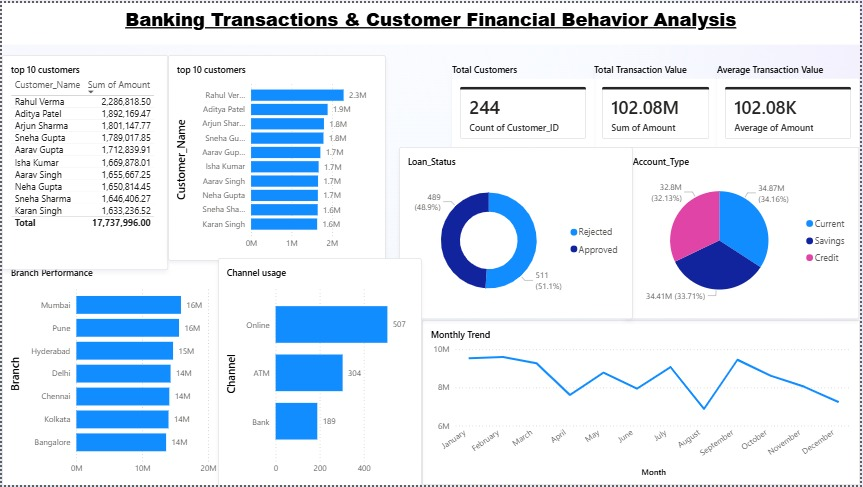

This screenshot's page, from the dashboard's own definition file:
{"tool":"powerbi","page":{"name":"Page 1","canvas":[1280,720],"ordinal":0},"visuals":[{"type":"cardVisual","title":"Total Transaction Value","fields":{"Data":["Sum(finance_project_dataset_1000_records.Amount)"]},"box":[883.2,91.4,184.6,124.2],"z":0},{"type":"cardVisual","title":"Total Customers","fields":{"Data":["Count(finance_project_dataset_1000_records.Customer_ID)"]},"box":[671.1,91.4,212.2,124.2],"z":1000},{"type":"cardVisual","title":"Average Transaction Value","fields":{"Data":["Avg(finance_project_dataset_1000_records.Amount)"]},"box":[1067.8,91.4,212.2,124.2],"z":2000},{"type":"clusteredBarChart","title":"Branch Performance","fields":{"Category":["finance_project_dataset_1000_records.Branch"],"Y":["Sum(finance_project_dataset_1000_records.Amount)"]},"box":[0,381.2,338.1,339.8],"z":3000},{"type":"lineChart","title":"Monthly Trend","fields":{"Y":["Sum(finance_project_dataset_1000_records.Amount)"],"Category":["finance_project_dataset_1000_records.Month"]},"box":[626.2,472.7,653.8,246.7],"z":4000},{"type":"pieChart","title":" Account_Type","fields":{"Category":["finance_project_dataset_1000_records.Account_Type"],"Y":["Sum(finance_project_dataset_1000_records.Amount)"]},"box":[928.5,215.6,351.5,256.7],"z":5000},{"type":"donutChart","title":" Loan_Status","fields":{"Category":["finance_project_dataset_1000_records.Loan_Status"],"Y":["CountNonNull(finance_project_dataset_1000_records.Loan_Status)"]},"box":[593.3,215.6,349,256.7],"z":6000},{"type":"tableEx","title":"top 10 customers","fields":{"Values":["finance_project_dataset_1000_records.Customer_Name","Sum(finance_project_dataset_1000_records.Amount)"]},"box":[0,77,248.4,321.1],"z":7000},{"type":"barChart","title":"top 10 customers","fields":{"Category":["finance_project_dataset_1000_records.Customer_Name"],"Y":["Sum(finance_project_dataset_1000_records.Amount)"]},"box":[248,77.3,325.3,306.6],"z":8000},{"type":"barChart","title":" Channel usage","fields":{"Category":["finance_project_dataset_1000_records.Channel"],"Y":["CountNonNull(finance_project_dataset_1000_records.Channel)"]},"box":[322.6,381.2,303.6,339.8],"z":9000},{"type":"textbox","box":[0,0,1280,62.1],"z":10000}]}

Visuals, with their boxes in screenshot pixels (x1, y1, x2, y2), scaled from the page's 1280x720 canvas onto the 863x487 screenshot:
"Total Transaction Value" cardVisual: {"left": 595, "top": 62, "right": 720, "bottom": 146}
"Total Customers" cardVisual: {"left": 452, "top": 62, "right": 596, "bottom": 146}
"Average Transaction Value" cardVisual: {"left": 720, "top": 62, "right": 862, "bottom": 146}
"Branch Performance" clusteredBarChart: {"left": 0, "top": 258, "right": 228, "bottom": 486}
"Monthly Trend" lineChart: {"left": 422, "top": 320, "right": 862, "bottom": 486}
" Account_Type" pieChart: {"left": 626, "top": 146, "right": 862, "bottom": 319}
" Loan_Status" donutChart: {"left": 400, "top": 146, "right": 635, "bottom": 319}
"top 10 customers" tableEx: {"left": 0, "top": 52, "right": 167, "bottom": 269}
"top 10 customers" barChart: {"left": 167, "top": 52, "right": 387, "bottom": 260}
" Channel usage" barChart: {"left": 218, "top": 258, "right": 422, "bottom": 486}
textbox: {"left": 0, "top": 0, "right": 862, "bottom": 42}
